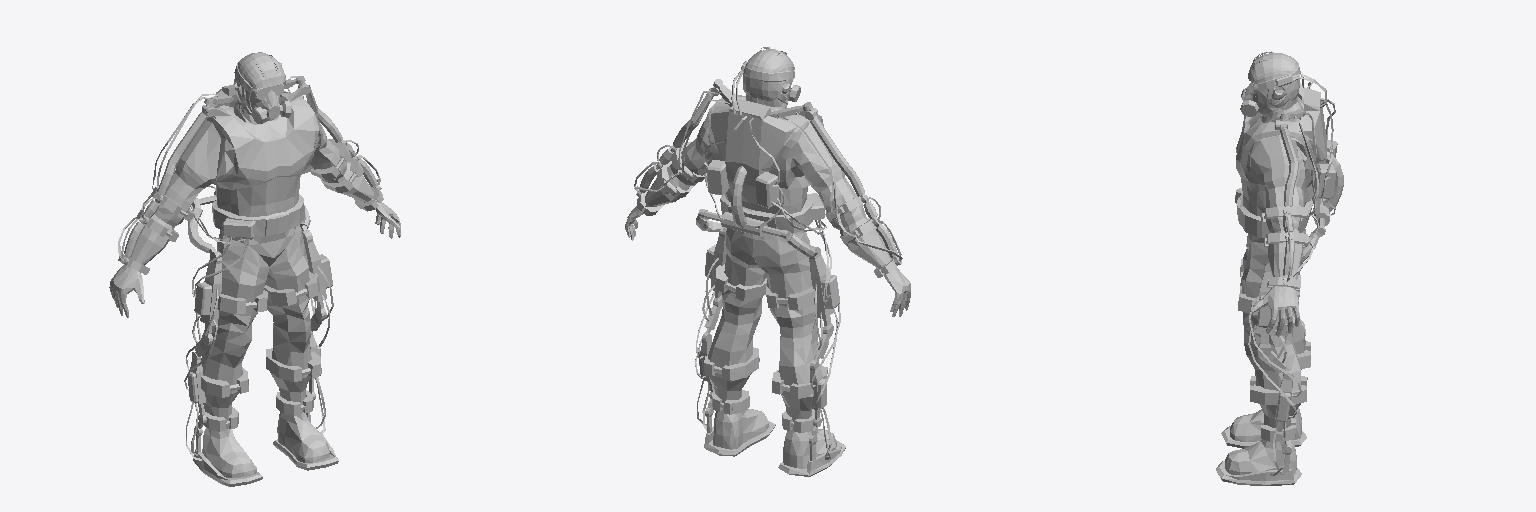
Rendered from Duty Exoskeleton.obj.
3 renders of one model, left to right at view 1: azimuth 30°, elevation 25°; view 2: azimuth 150°, elevation 25°; view 3: azimuth 270°, elevation 25°, orthographic.
Parts seen in each view (by area): view 1: Duty_Exoskeleton_Duty_Exoskeleton_Duty_Exoskeleton; view 2: Duty_Exoskeleton_Duty_Exoskeleton_Duty_Exoskeleton; view 3: Duty_Exoskeleton_Duty_Exoskeleton_Duty_Exoskeleton.
Part boxes in pixels (x1,y1,x2,y2): Duty_Exoskeleton_Duty_Exoskeleton_Duty_Exoskeleton: (109,52,400,486); Duty_Exoskeleton_Duty_Exoskeleton_Duty_Exoskeleton: (625,47,910,476); Duty_Exoskeleton_Duty_Exoskeleton_Duty_Exoskeleton: (1216,51,1343,485).
Size of the model in its own units: 2.72 by 3.73 by 1.07.